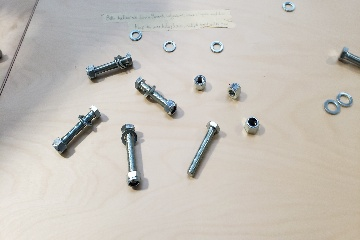Bolt: (185, 119, 225, 179)
FalseAssembly: (46, 103, 107, 157), (119, 123, 144, 191)
FinishedAssembly: (133, 75, 181, 119), (83, 51, 136, 82)
Nut: (241, 114, 264, 136), (227, 82, 246, 102), (191, 75, 209, 91)
Washer: (322, 96, 342, 116), (127, 28, 145, 43), (161, 39, 179, 53), (209, 40, 225, 53), (281, 1, 297, 12)
